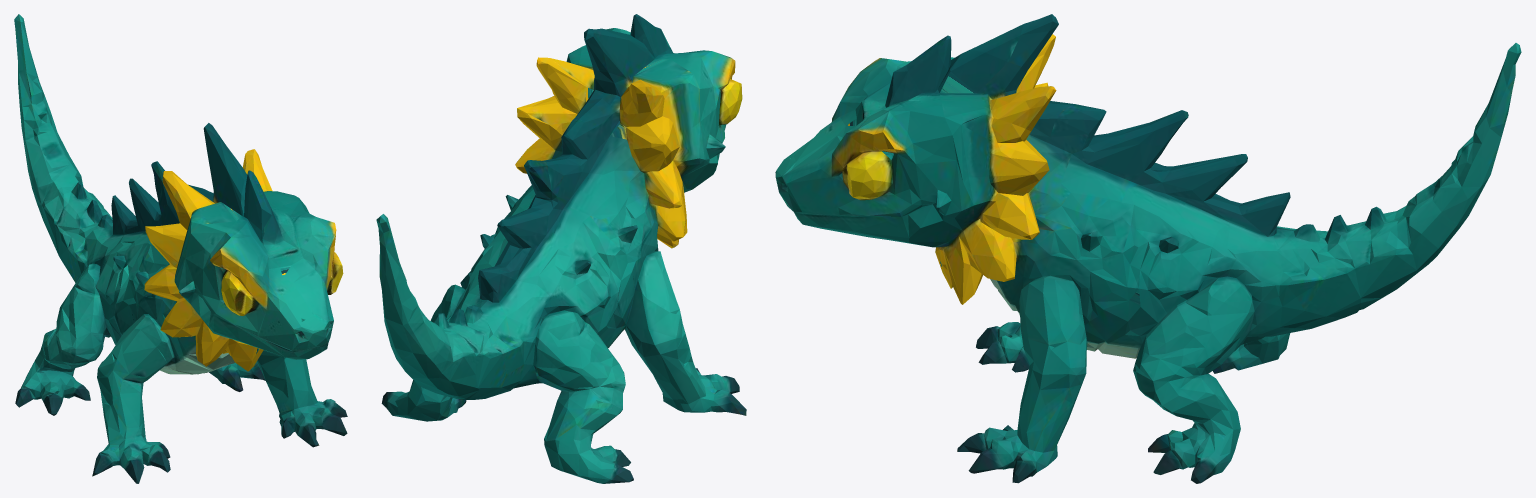
File: glare_lizard.glb
3 renders of one model, left to right at view 1: azimuth 30°, elevation 25°; view 2: azimuth 150°, elevation 25°; view 3: azimuth 270°, elevation 25°, orthographic. The views are drawn at different scales.
Parts seen in each view (by area): view 1: tripo_node_a60d6bf6-11c4-424c-8e30-32d665e2c97a; view 2: tripo_node_a60d6bf6-11c4-424c-8e30-32d665e2c97a; view 3: tripo_node_a60d6bf6-11c4-424c-8e30-32d665e2c97a.
Part boxes in pixels (x1,y1,x2,y2): tripo_node_a60d6bf6-11c4-424c-8e30-32d665e2c97a: (14, 14, 347, 483); tripo_node_a60d6bf6-11c4-424c-8e30-32d665e2c97a: (376, 14, 746, 483); tripo_node_a60d6bf6-11c4-424c-8e30-32d665e2c97a: (775, 14, 1521, 483).
Bounding box in the file's own units: 0.4876 × 0.5867 × 1.
1 material, 1 textured.
